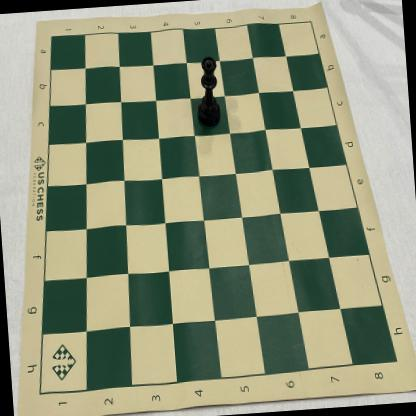queen: (192, 55, 223, 130)
